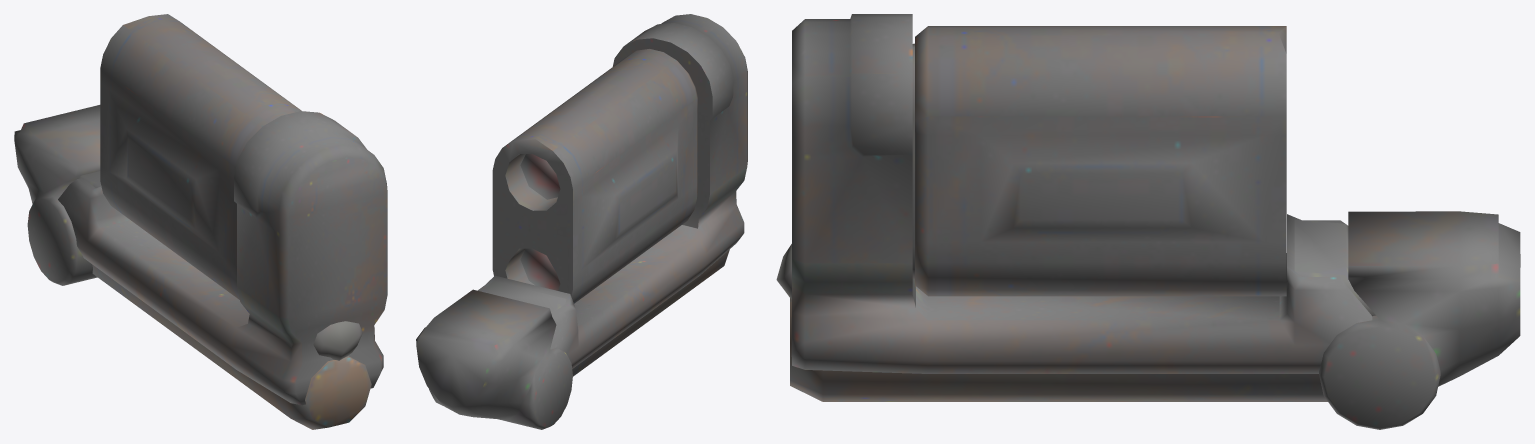
Rendered from mag5.obj.
The picture shows the model from 3 angles, left to right: view 1: azimuth 30°, elevation 25°; view 2: azimuth 150°, elevation 25°; view 3: azimuth 270°, elevation 25°; orthographic projection. The views are drawn at different scales.
Parts seen in each view (by area): view 1: mag5; view 2: mag5; view 3: mag5.
Boxes of the visible parts, <box> form: mag5: <box>14,14,387,429</box>; mag5: <box>416,14,747,429</box>; mag5: <box>776,14,1520,429</box>.
Size of the model in its own units: 4.91 by 11.27 by 20.48.
